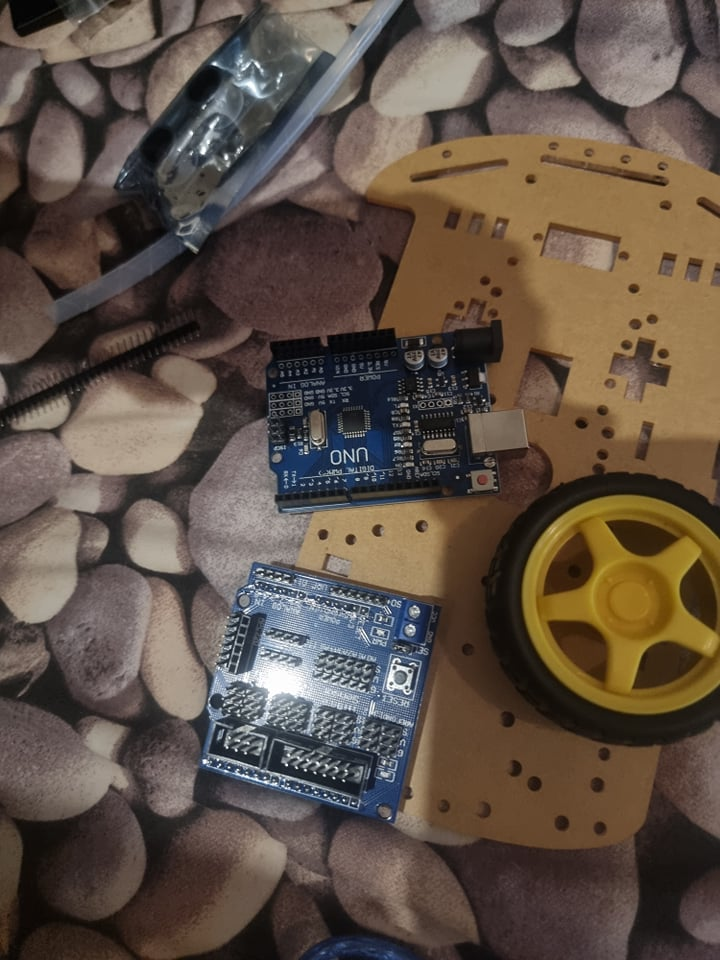5V EXPANSION: (197, 562, 442, 825)
UNO R3: (267, 318, 529, 517)
